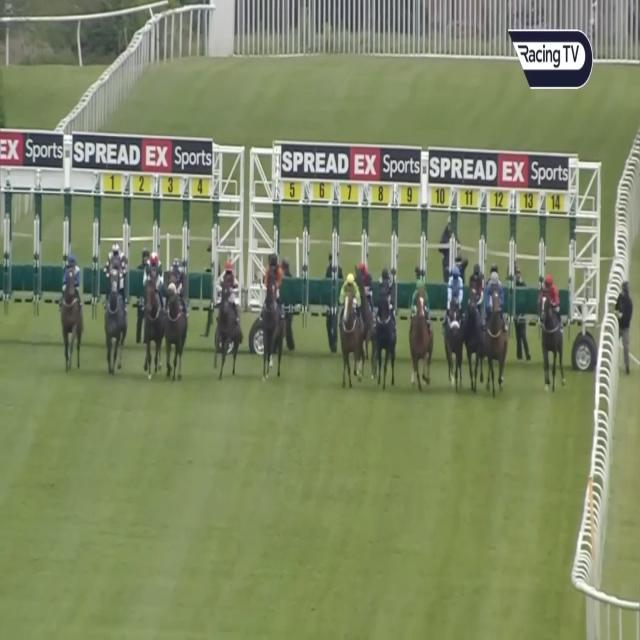horses-racing: (258, 252, 288, 374), (331, 271, 360, 387), (162, 257, 189, 377), (372, 268, 397, 385), (480, 270, 504, 390), (215, 261, 238, 378), (62, 254, 86, 360), (464, 263, 484, 388), (540, 270, 560, 395), (445, 266, 465, 386), (141, 253, 164, 356), (409, 281, 431, 385), (108, 243, 126, 367), (356, 262, 374, 342)
